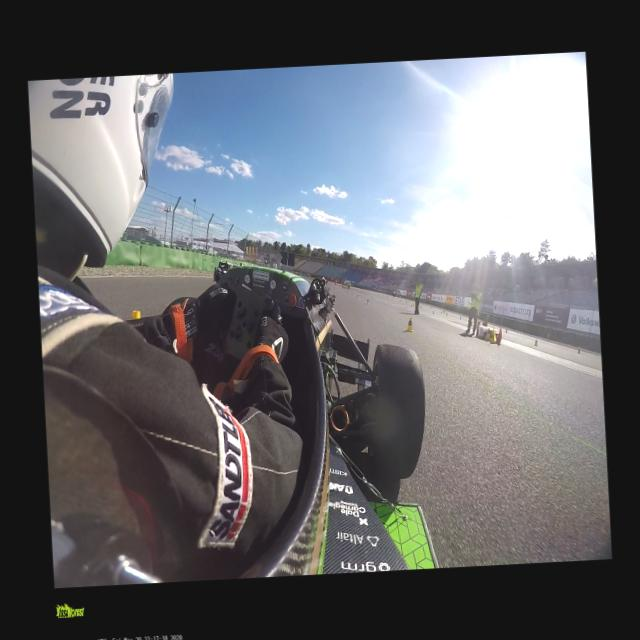yellow_cone: (130, 309, 142, 321), (406, 318, 414, 333), (534, 340, 538, 346), (576, 348, 580, 353), (366, 298, 369, 304), (458, 314, 462, 318), (357, 294, 359, 298), (351, 292, 353, 296)
